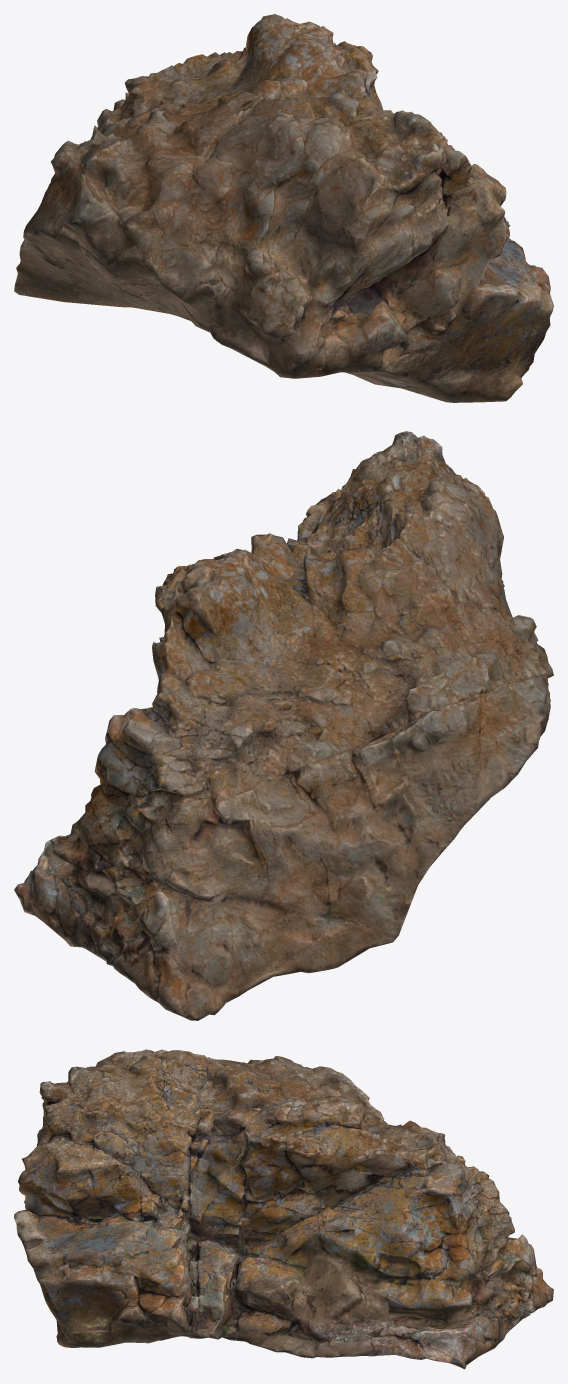
Rendered from boulder-mid.glb.
The picture shows the model from 3 angles, top to bottom: view 1: azimuth 30°, elevation 25°; view 2: azimuth 150°, elevation 25°; view 3: azimuth 270°, elevation 25°; orthographic projection. The views are drawn at different scales.
Visible parts, largest first — view 1: boulder_01_LOD2; view 2: boulder_01_LOD2; view 3: boulder_01_LOD2.
Part boxes in pixels (box(x1,y1,x2,y2)): boulder_01_LOD2: box(14, 14, 553, 402); boulder_01_LOD2: box(14, 431, 553, 1020); boulder_01_LOD2: box(14, 1049, 553, 1369).
Bounding box in the file's own units: 1.27 × 1 × 1.83.
1 material, 1 textured.
